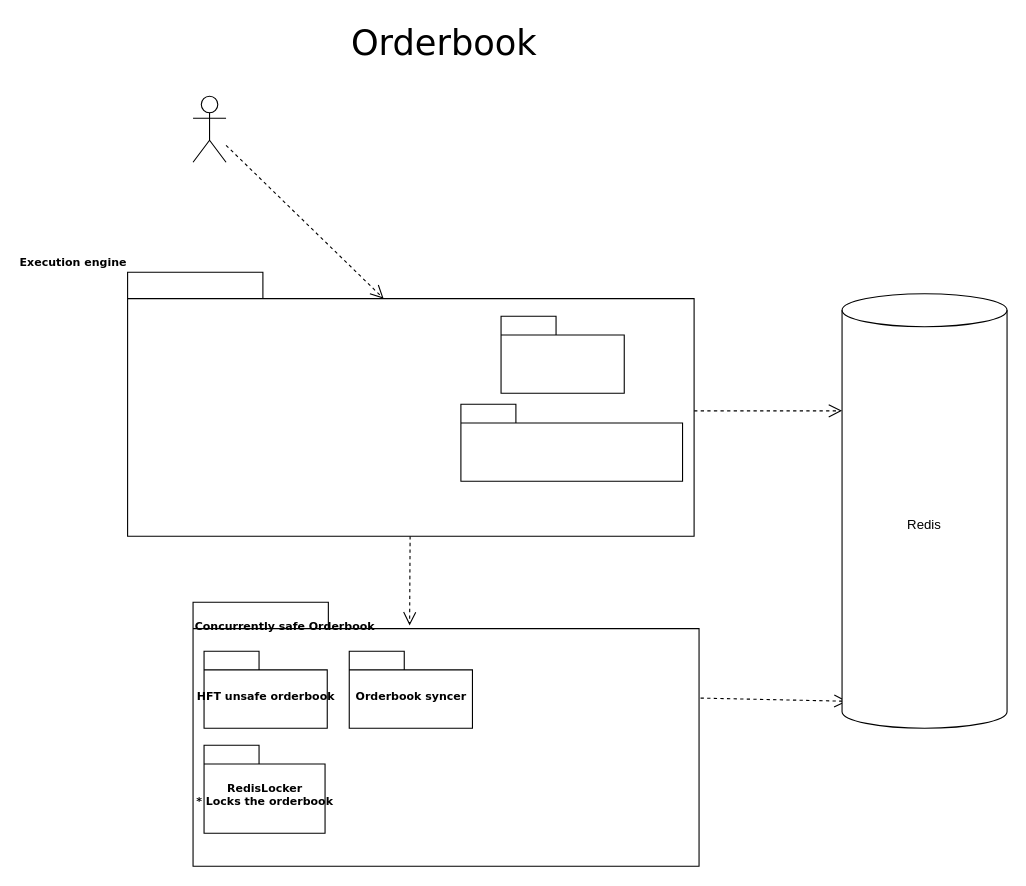
This 1026x886 diagram has some shape labels left out. The centre of each missing label's shape, as x and y in pixels:
"Order sender" goes at (209,128).
"Redis client: * order shapshot * matched orders update * [restore snapshot]" goes at (562,354).
"RedisLocker * Locks the order globally for the execution" goes at (571,442).
